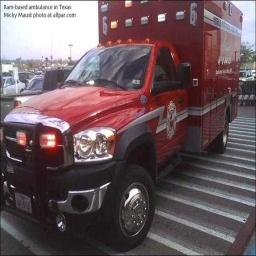ambulance: (1, 1, 242, 249)
